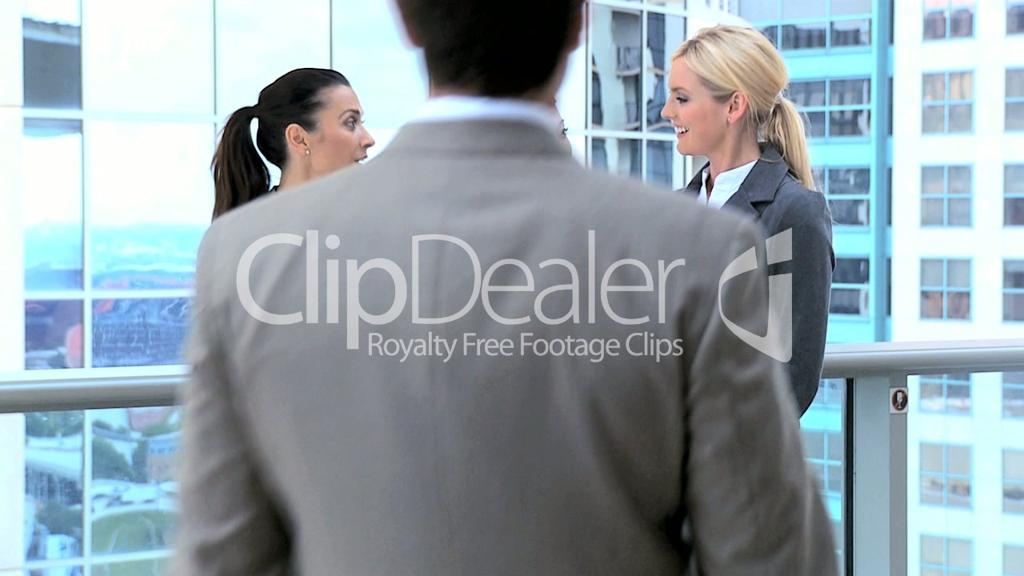face: (662, 54, 730, 152), (310, 84, 374, 178)
